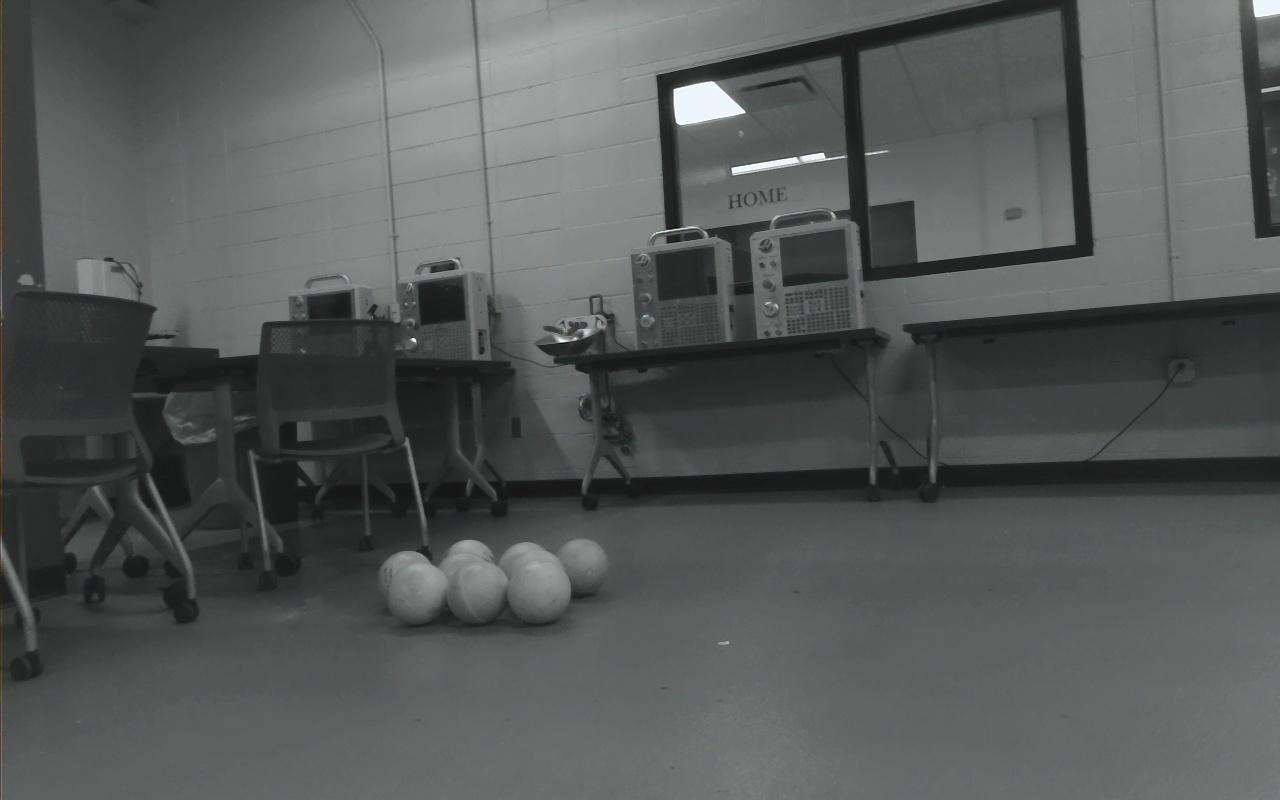Fuel: (507, 559, 571, 624), (387, 562, 448, 626), (447, 560, 508, 624), (504, 549, 564, 609), (436, 550, 489, 613), (378, 549, 433, 609), (444, 539, 498, 596), (556, 538, 609, 596), (498, 541, 550, 598)
